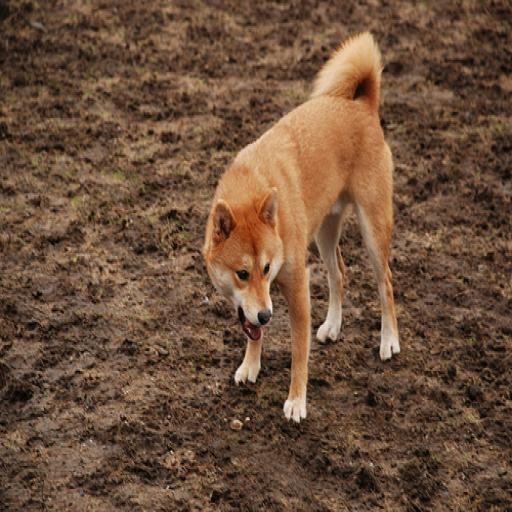dog_face: (202, 192, 282, 336)
